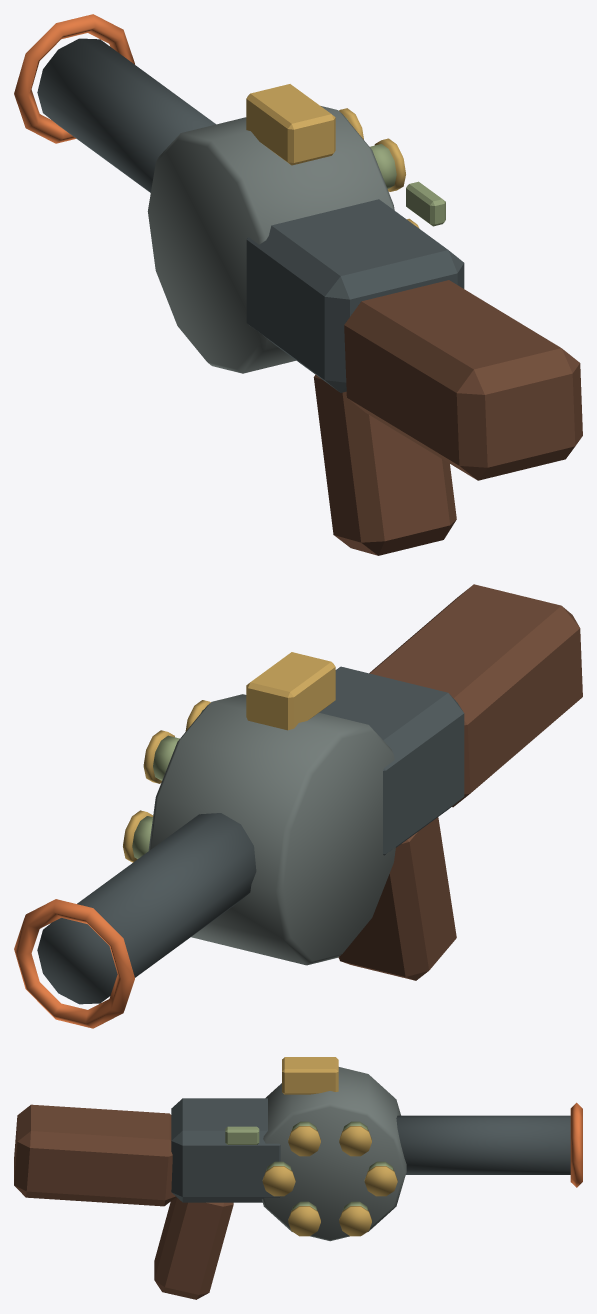
File: GrenadeLauncher.glb
3 views of the same model, one above another, from view 1: azimuth 30°, elevation 25°; view 2: azimuth 150°, elevation 25°; view 3: azimuth 270°, elevation 25° (orthographic). The views are drawn at different scales.
Parts seen in each view (by area): view 1: Stock, Rotary drum, Receiver, Grip, Launch tube, Top sight, Muzzle ring, Safety; view 2: Rotary drum, Stock, Launch tube, Receiver, Grip, Muzzle ring, Top sight, Drum shell.001, Drum shell, Shell rim.001, Shell rim; view 3: Stock, Rotary drum, Launch tube, Receiver, Grip, Top sight, Muzzle ring, Shell rim, Shell rim.003, Shell rim.001, Shell rim.002, Shell rim.004 (+2 smaller).
Boxes of the visible parts, left/top/right/bottom form: Stock: left=344, top=280, right=582, bottom=480; Rotary drum: left=147, top=106, right=394, bottom=373; Receiver: left=246, top=199, right=464, bottom=392; Grip: left=313, top=374, right=456, bottom=555; Launch tube: left=37, top=38, right=215, bottom=192; Top sight: left=246, top=84, right=335, bottom=165; Muzzle ring: left=14, top=14, right=134, bottom=143; Safety: left=406, top=181, right=445, bottom=226; Rotary drum: left=148, top=694, right=395, bottom=965; Stock: left=369, top=584, right=582, bottom=807; Launch tube: left=37, top=813, right=256, bottom=1004; Receiver: left=319, top=666, right=464, bottom=855; Grip: left=338, top=817, right=456, bottom=980; Muzzle ring: left=14, top=899, right=134, bottom=1028; Top sight: left=246, top=652, right=335, bottom=730; Drum shell.001: left=153, top=735, right=179, bottom=780; Drum shell: left=132, top=816, right=152, bottom=858; Shell rim.001: left=143, top=730, right=174, bottom=783; Shell rim: left=123, top=810, right=153, bottom=862; Stock: left=14, top=1104, right=175, bottom=1206; Rotary drum: left=262, top=1067, right=406, bottom=1241; Launch tube: left=396, top=1115, right=570, bottom=1174; Receiver: left=171, top=1098, right=280, bottom=1202; Grip: left=154, top=1197, right=233, bottom=1299; Top sight: left=282, top=1057, right=338, bottom=1094; Muzzle ring: left=570, top=1102, right=582, bottom=1187; Shell rim: left=364, top=1166, right=397, bottom=1196; Shell rim.003: left=262, top=1166, right=295, bottom=1196; Shell rim.001: left=339, top=1126, right=371, bottom=1156; Shell rim.002: left=288, top=1126, right=320, bottom=1156; Shell rim.004: left=288, top=1206, right=320, bottom=1236.
Size of the model in its own units: 0.419 by 0.8836 by 2.01.
